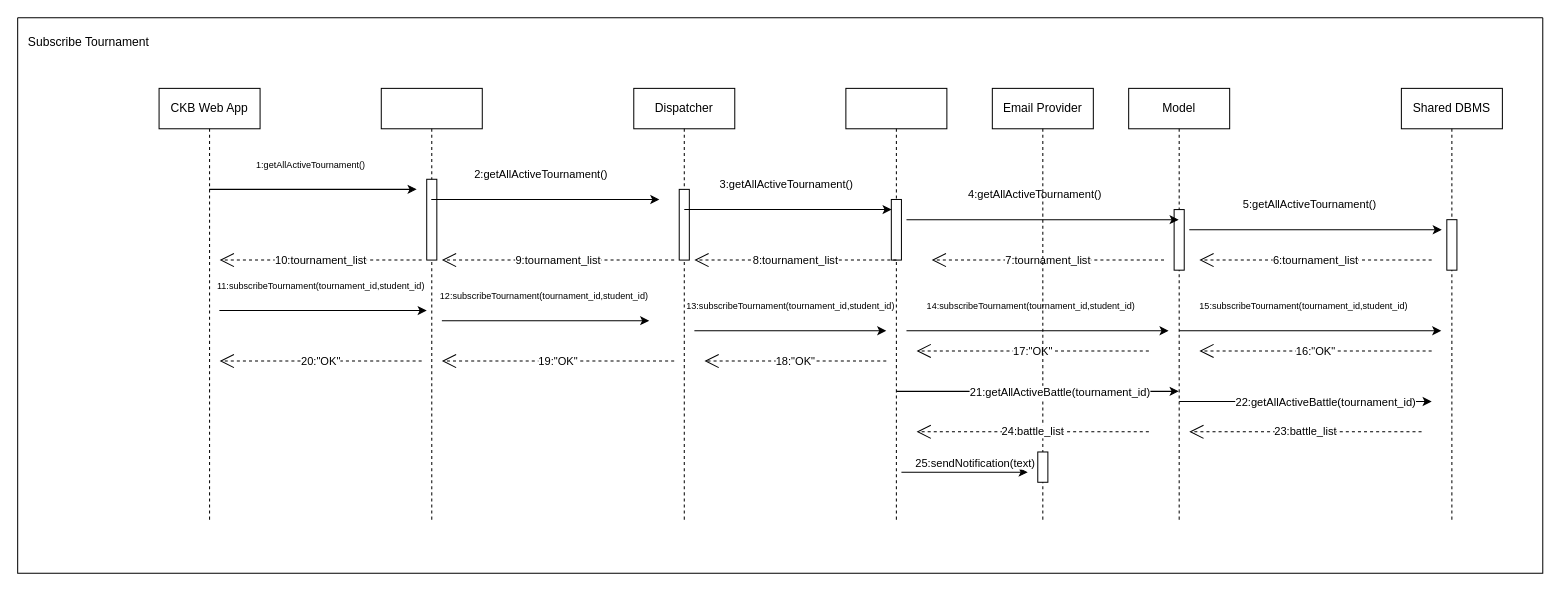
This 1560x591 diagram has some shape labels left out. The box of each missing label's shape, as (x1, y1, x2, y2) in pixels:
Tournament Manager: (845, 87, 947, 523)
Web Server: (380, 87, 482, 523)
